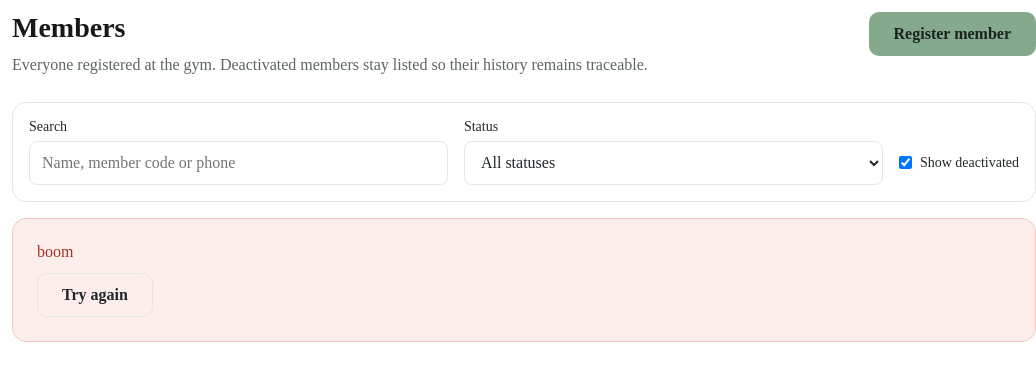
Test: the members list › shows an API error and can retry
expect the text "boom" is shown: met, box [37,243,74,261]
Click the button "Try again".
click(95, 295)  # box [37,273,153,317]
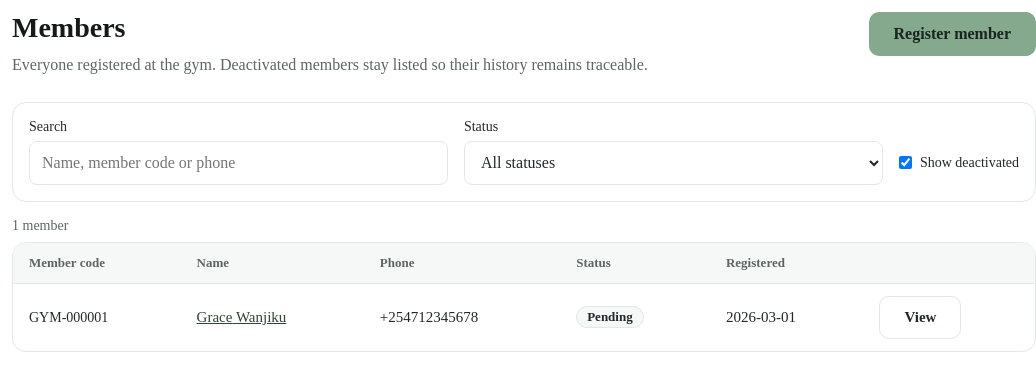
expect the text "GYM-000001" is shown: met, box [29,310,108,325]
